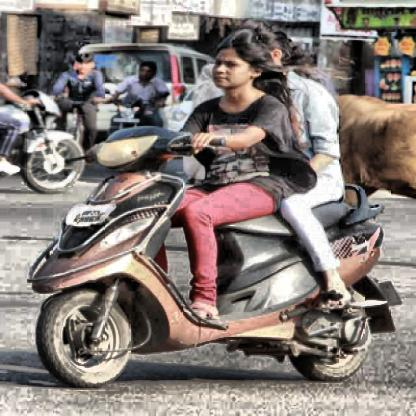not_wear: (215, 28, 268, 104)
